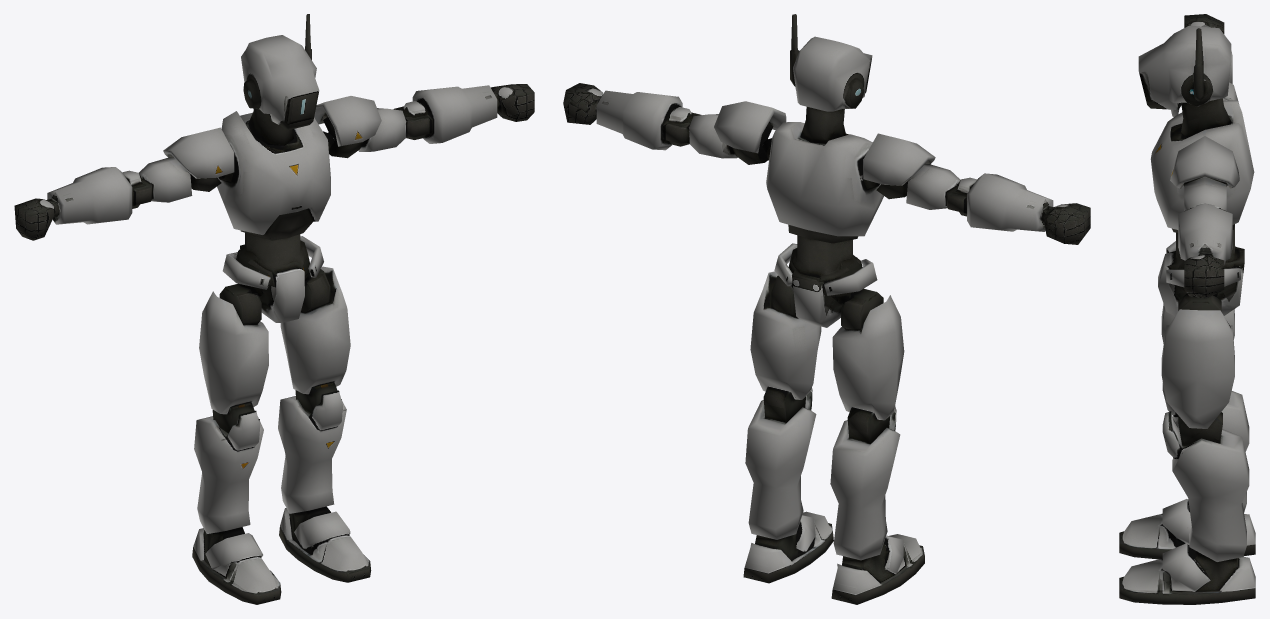
The model's file is HB2Tripo.fbx.
3 renders of one model, left to right at view 1: azimuth 30°, elevation 25°; view 2: azimuth 150°, elevation 25°; view 3: azimuth 270°, elevation 25°, orthographic. The views are drawn at different scales.
Parts seen in each view (by area): view 1: tripo_node_f61c0c4d; view 2: tripo_node_f61c0c4d; view 3: tripo_node_f61c0c4d.
Part boxes in pixels (bbox=[...]): tripo_node_f61c0c4d: bbox=[14, 14, 534, 604]; tripo_node_f61c0c4d: bbox=[563, 14, 1090, 604]; tripo_node_f61c0c4d: bbox=[1119, 14, 1255, 604].
Size of the model in its own units: 99.02 by 22.07 by 99.8.
1 material, 1 textured.
